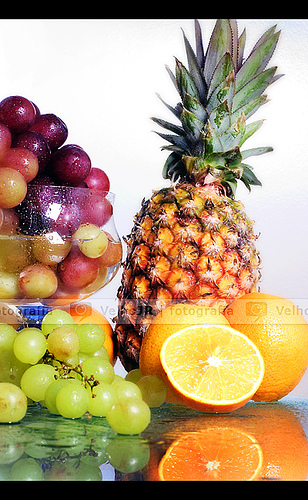pineapple: (112, 17, 285, 375)
